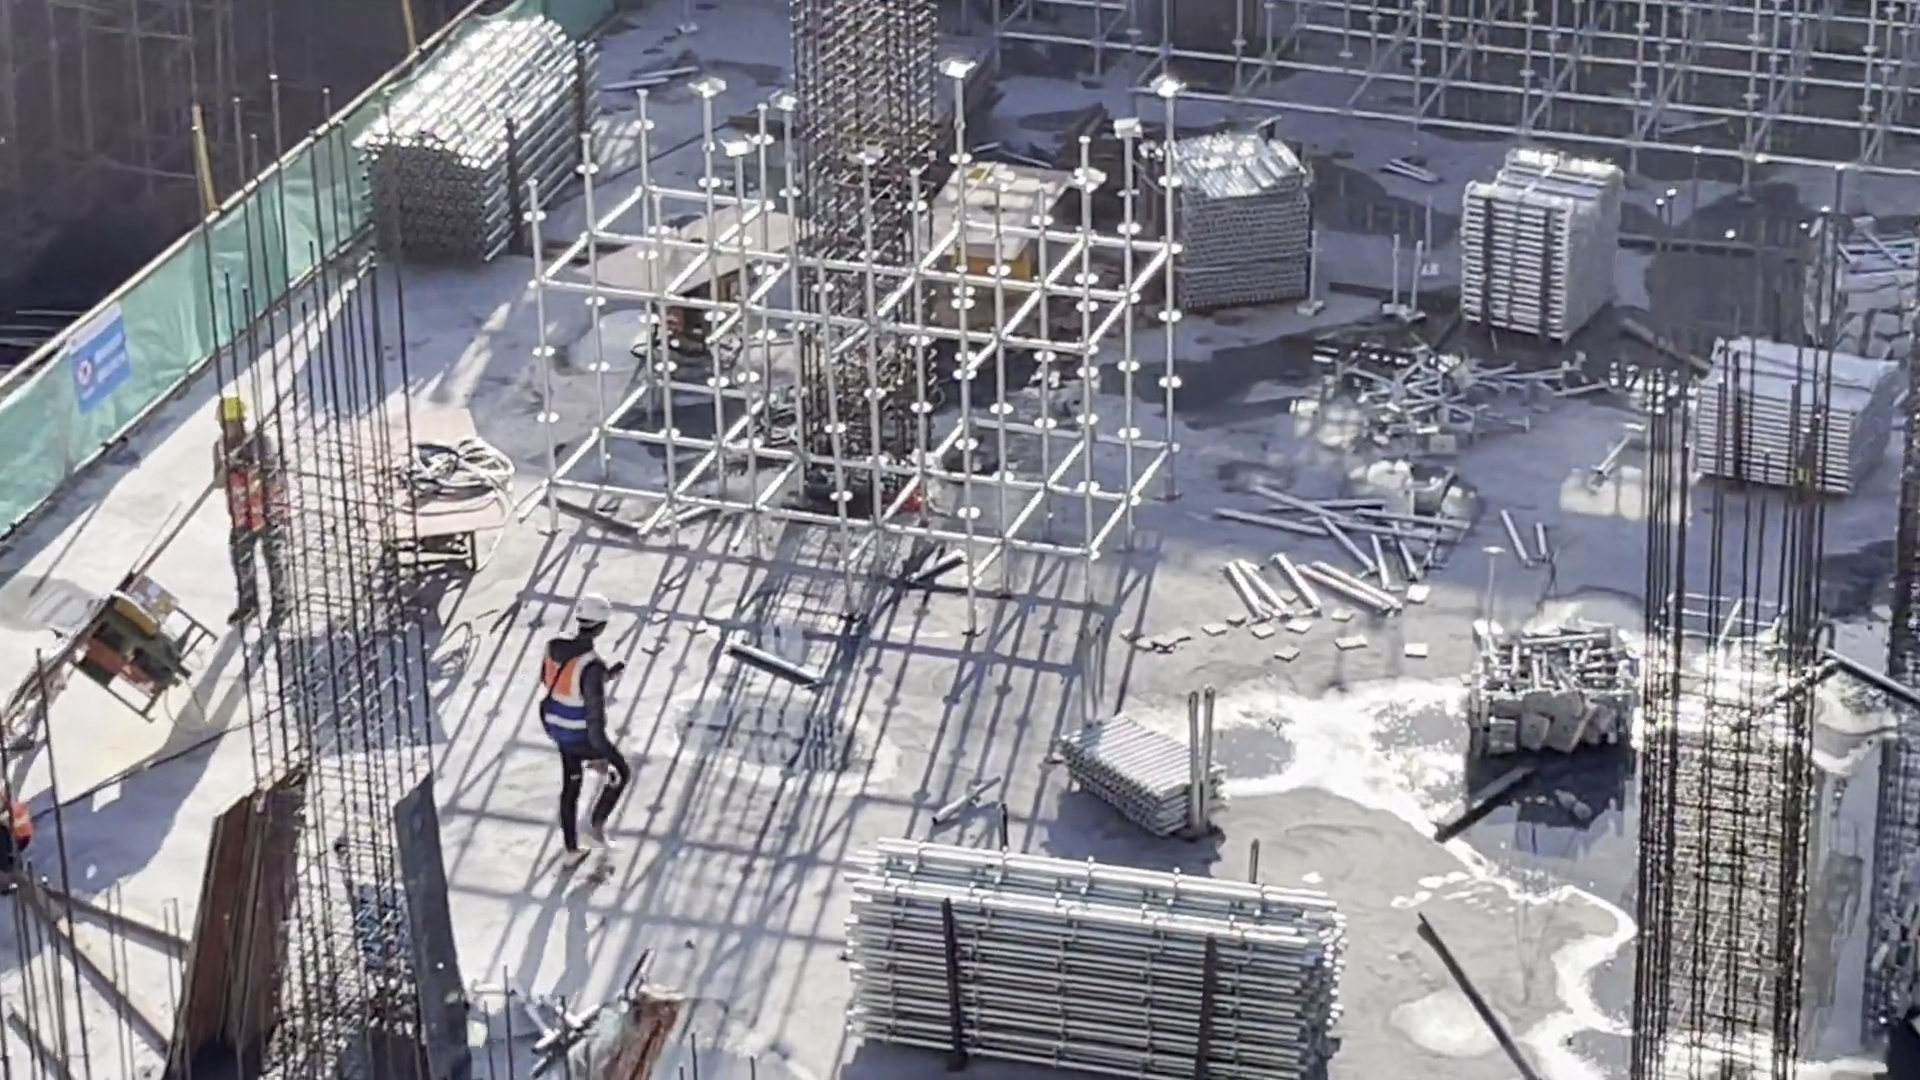board: (190, 774, 292, 1055)
cutter: (580, 187, 817, 383), (23, 523, 244, 717), (319, 401, 532, 574), (886, 157, 1084, 313)
helmet: (574, 593, 608, 641), (215, 393, 251, 426)
person: (522, 593, 625, 867), (210, 391, 308, 630)
scaffold: (844, 828, 1344, 1080), (361, 19, 601, 274), (1132, 109, 1313, 338), (1444, 150, 1628, 347), (1687, 325, 1891, 494), (1453, 607, 1634, 759), (1054, 690, 1233, 832), (1805, 218, 1920, 367), (1380, 357, 1477, 464)
slogan: (51, 285, 151, 428)
vest: (537, 644, 608, 745), (223, 436, 291, 535)
